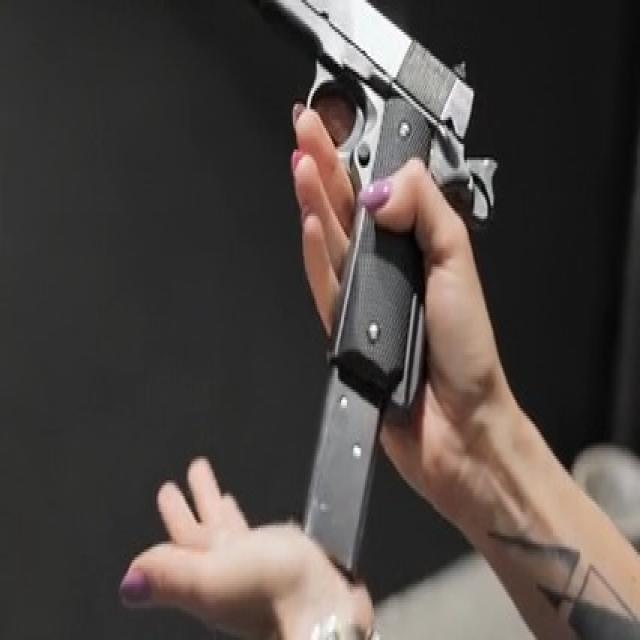Gun_Holder: (213, 0, 501, 581)
